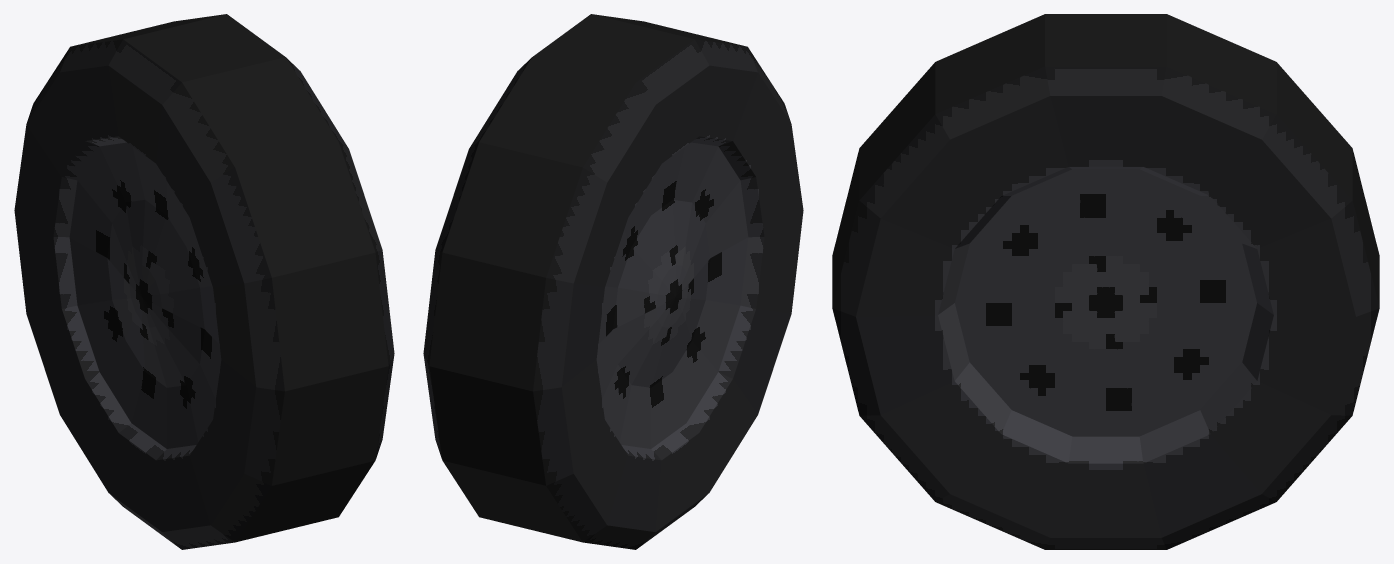
Rendered from wheel_steel_l.glb.
3 views of the same model, side by side, from view 1: azimuth 30°, elevation 25°; view 2: azimuth 150°, elevation 25°; view 3: azimuth 270°, elevation 25° (orthographic). The views are drawn at different scales.
Parts seen in each view (by area): view 1: Wheel; view 2: Wheel; view 3: Wheel.
Boxes of the visible parts, <box> form: Wheel: <box>14,14,394,549</box>; Wheel: <box>423,14,803,549</box>; Wheel: <box>832,14,1379,549</box>.
Size of the model in its own units: 0.175 by 0.5655 by 0.58.
Materials: 2 (1 with a texture image).
